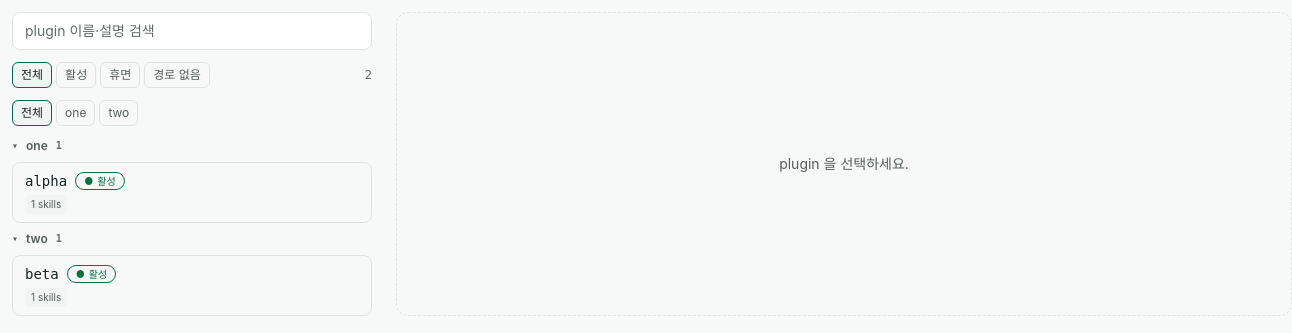
Scenario: PluginCatalog 토글 › status 필터 휴면 선택 시 active plugin 숨김
Click the button "휴면" at (120, 75), box top-left (100, 62), bottom-right (140, 88)
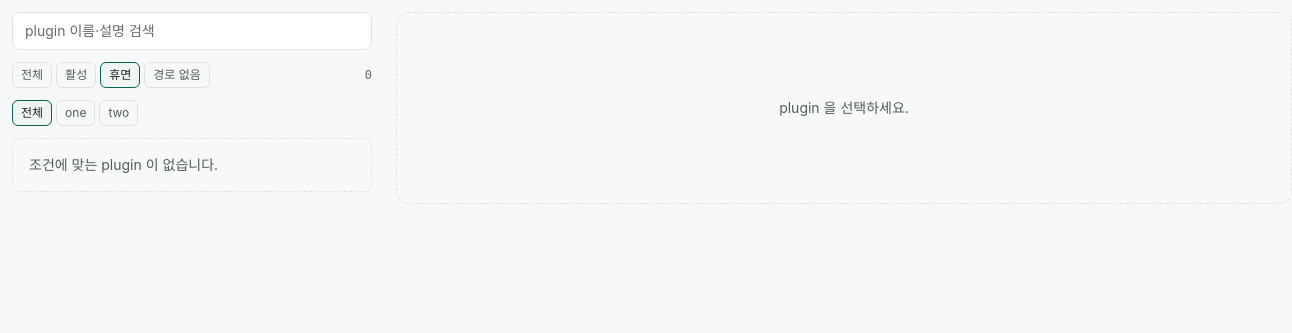
Check: the button "alpha" is gone
